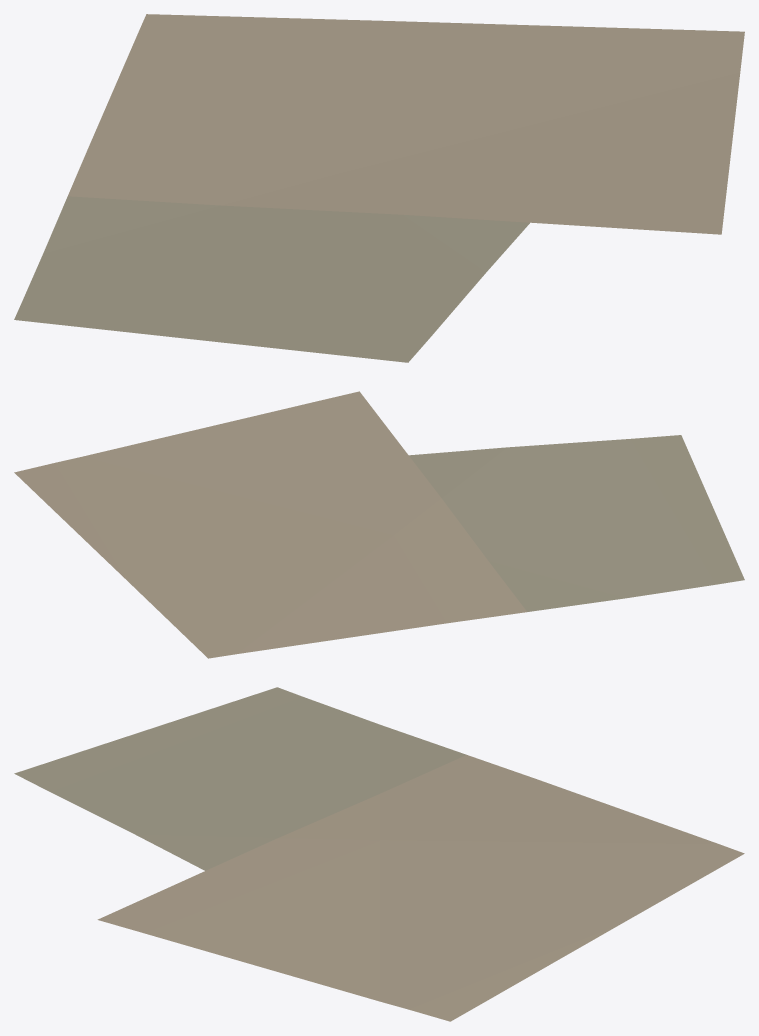
Rendered from farm_6_10_soil.glb.
3 views of the same model, one above another, from view 1: azimuth 30°, elevation 25°; view 2: azimuth 150°, elevation 25°; view 3: azimuth 270°, elevation 25° (orthographic). The views are drawn at different scales.
Parts seen in each view (by area): view 1: geometry_0; view 2: geometry_0; view 3: geometry_0.
Boxes of the visible parts, left/top/right/bottom form: geometry_0: left=14, top=14, right=744, bottom=362; geometry_0: left=14, top=391, right=744, bottom=658; geometry_0: left=14, top=687, right=744, bottom=1021.
Size of the model in its own units: 149 by 2.99 by 135.
